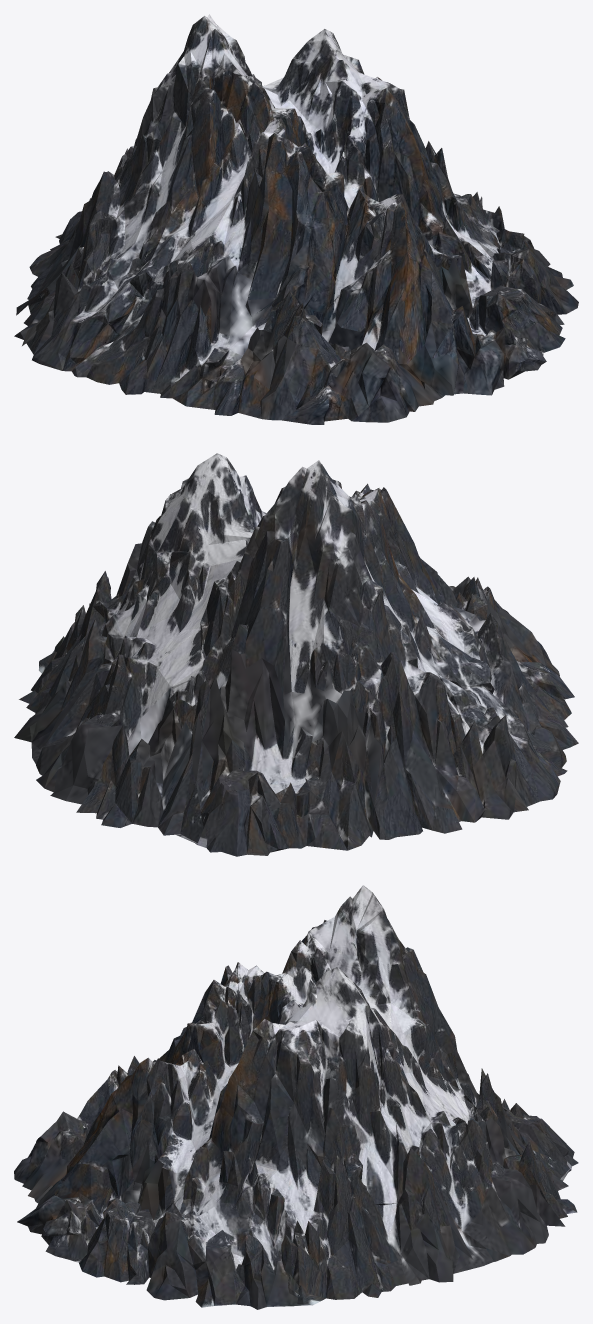
The model's file is peak_medium.glb.
The picture shows the model from 3 angles, top to bottom: view 1: azimuth 30°, elevation 25°; view 2: azimuth 150°, elevation 25°; view 3: azimuth 270°, elevation 25°; orthographic projection. The views are drawn at different scales.
Visible parts, largest first — view 1: peak_medium; view 2: peak_medium; view 3: peak_medium.
Boxes of the visible parts, <box> form: peak_medium: <box>14,14,578,424</box>; peak_medium: <box>14,453,578,856</box>; peak_medium: <box>14,885,578,1309</box>.
Size of the model in its own units: 1.81 by 1 by 1.82.
1 material, 1 textured.
